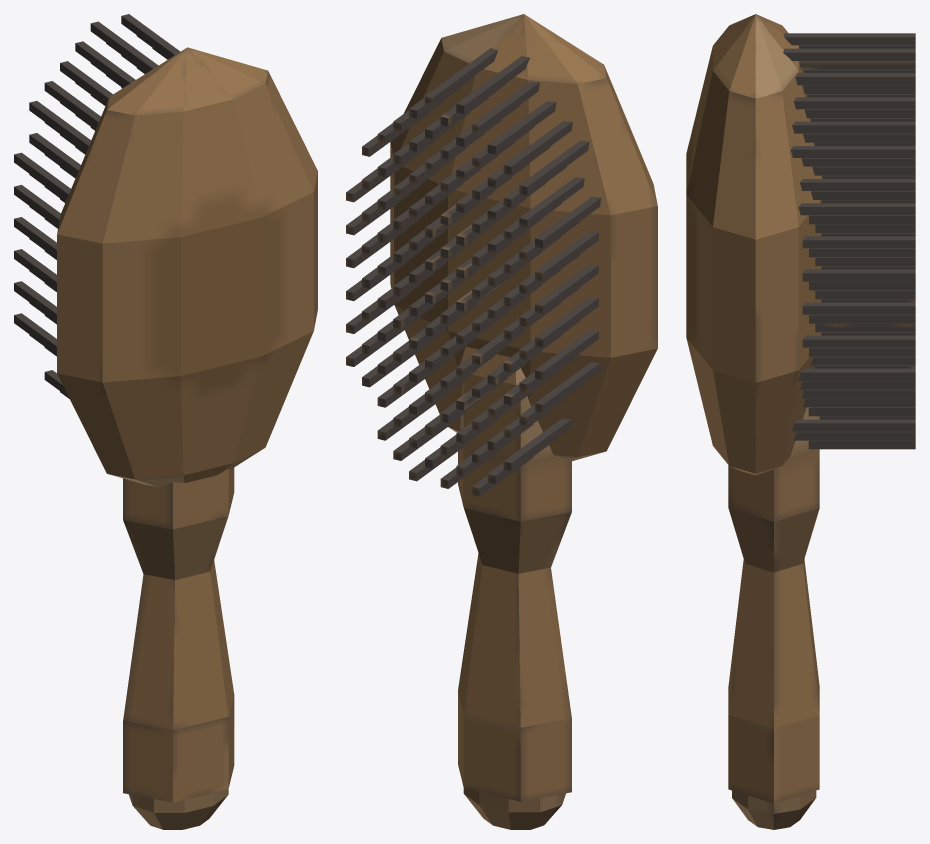
File: hairbrush.fbx
The picture shows the model from 3 angles, left to right: view 1: azimuth 30°, elevation 25°; view 2: azimuth 150°, elevation 25°; view 3: azimuth 270°, elevation 25°; orthographic projection. The views are drawn at different scales.
Parts seen in each view (by area): view 1: sphere_1, cone_1, cylinder_1, cylinder, cone, sphere, cuboid_126, cuboid_127, cuboid_54, cuboid_118, cuboid_111, cuboid_125 (+7 smaller); view 2: sphere_1, cone_1, cylinder_1, cylinder, cone, sphere, cuboid_126, cuboid_125, cuboid_127, cuboid_111, cuboid_83, cuboid_53 (+10 smaller); view 3: sphere_1, cone_1, cylinder_1, cylinder, cone, sphere, cuboid_125, cuboid_126, cuboid_121, cuboid_65, cuboid_122, cuboid_124 (+34 smaller).
Part boxes in pixels (left/top/right/bottom): sphere_1: left=57, top=47, right=317, bottom=487; cone_1: left=123, top=560, right=233, bottom=730; cylinder_1: left=123, top=694, right=234, bottom=802; cylinder: left=123, top=467, right=234, bottom=529; cone: left=123, top=516, right=228, bottom=579; sphere: left=129, top=789, right=228, bottom=829; cuboid_126: left=90, top=21, right=158, bottom=72; cuboid_127: left=29, top=101, right=90, bottom=151; cuboid_54: left=75, top=41, right=135, bottom=86; cuboid_118: left=14, top=152, right=70, bottom=200; cuboid_111: left=44, top=81, right=100, bottom=127; cuboid_125: left=121, top=14, right=180, bottom=58; sphere_1: left=390, top=14, right=657, bottom=461; cone_1: left=458, top=553, right=571, bottom=727; cylinder_1: left=458, top=691, right=571, bottom=801; cylinder: left=458, top=374, right=571, bottom=521; cone: left=464, top=508, right=571, bottom=573; sphere: left=463, top=788, right=565, bottom=829; cuboid_126: left=456, top=56, right=529, bottom=113; cuboid_125: left=425, top=48, right=497, bottom=106; cuboid_127: left=519, top=140, right=589, bottom=194; cuboid_111: left=503, top=121, right=572, bottom=174; cuboid_83: left=503, top=418, right=572, bottom=471; cuboid_53: left=487, top=101, right=556, bottom=154; sphere_1: left=686, top=14, right=822, bottom=475; cone_1: left=728, top=559, right=819, bottom=728; cylinder_1: left=728, top=715, right=819, bottom=803; cylinder: left=728, top=407, right=819, bottom=521; cone: left=728, top=508, right=819, bottom=572; sphere: left=732, top=790, right=816, bottom=829; cuboid_125: left=783, top=48, right=915, bottom=60; cuboid_126: left=783, top=33, right=915, bottom=45; cuboid_121: left=792, top=121, right=915, bottom=133; cuboid_65: left=792, top=419, right=915, bottom=431; cuboid_122: left=793, top=97, right=915, bottom=109; cuboid_124: left=795, top=73, right=915, bottom=85.
Bounding box in the file's own units: 106 × 306 × 78.46.
Materials: 1 (1 with a texture image).
